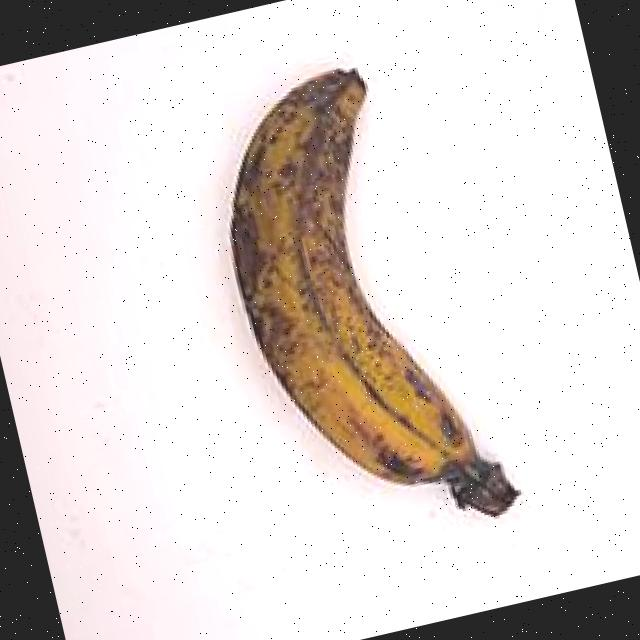Overripe: (154, 10, 556, 580)
